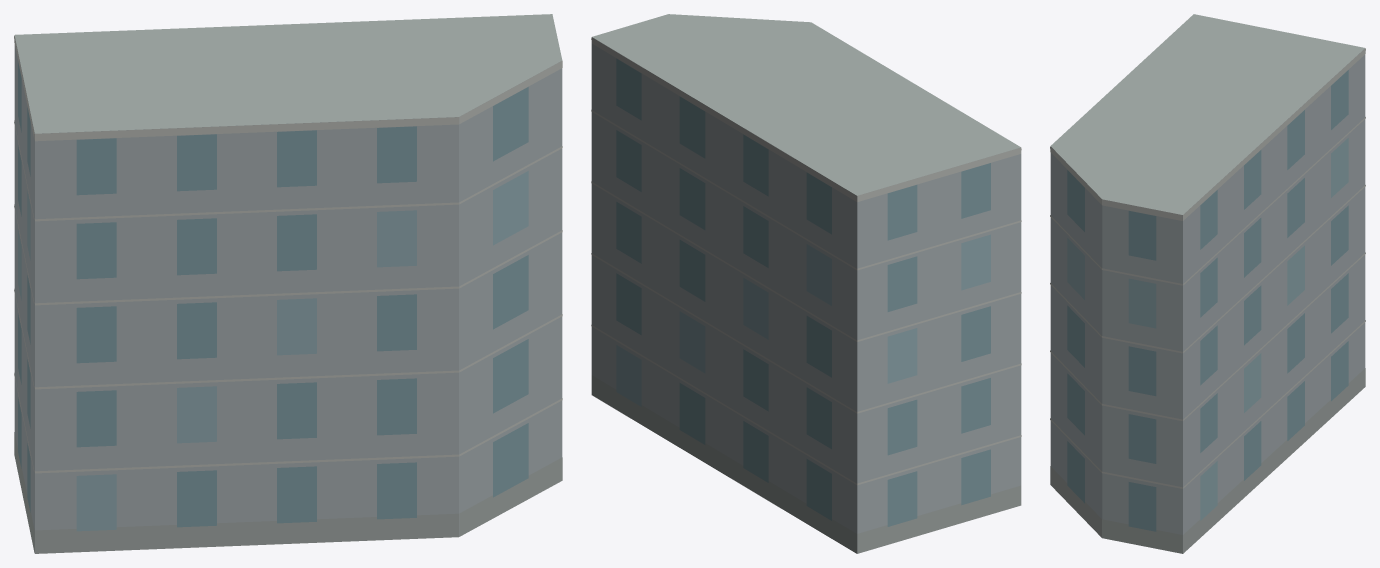
Rendered from survey-upis-32693697.glb.
3 renders of one model, left to right at view 1: azimuth 30°, elevation 25°; view 2: azimuth 150°, elevation 25°; view 3: azimuth 270°, elevation 25°, orthographic. The views are drawn at different scales.
Visible parts, largest first — view 1: survey-upis-32693697.tmp; view 2: survey-upis-32693697.tmp; view 3: survey-upis-32693697.tmp.
Part boxes in pixels (x1,y1,x2,y2): survey-upis-32693697.tmp: (14,14,562,553); survey-upis-32693697.tmp: (591,14,1021,553); survey-upis-32693697.tmp: (1050,14,1365,553).
Bounding box in the file's own units: 17.33 × 13.6 × 11.48.
